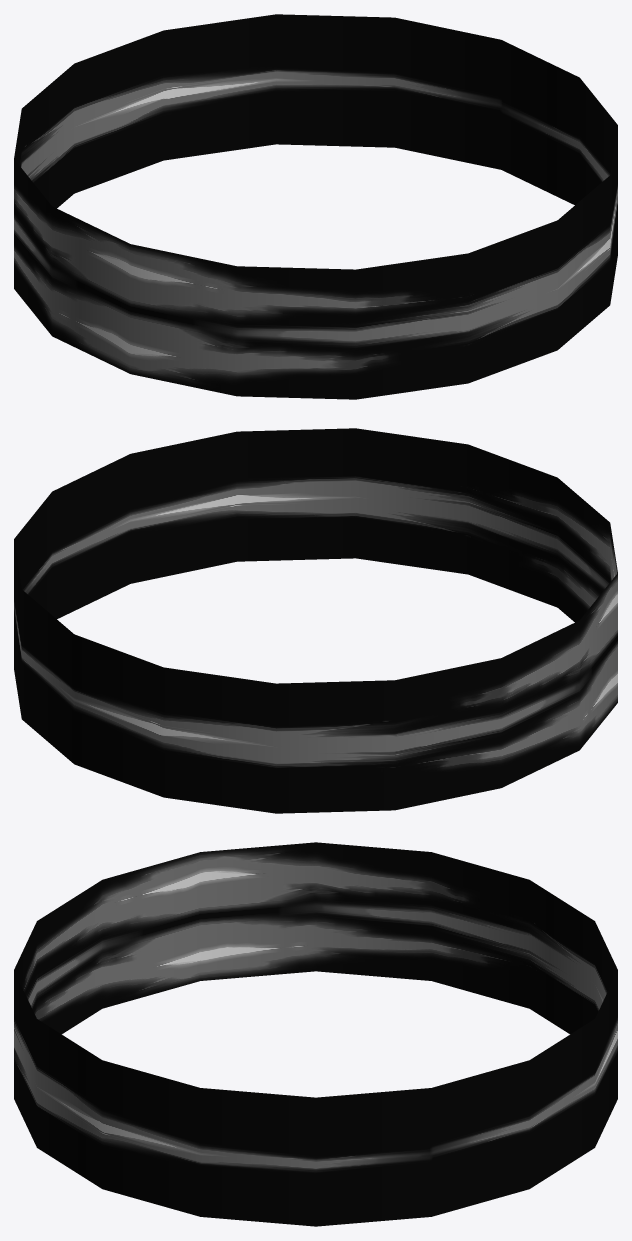
The model's file is Md_Close.fbx.
The picture shows the model from 3 angles, top to bottom: view 1: azimuth 30°, elevation 25°; view 2: azimuth 150°, elevation 25°; view 3: azimuth 270°, elevation 25°; orthographic projection.
Visible parts, largest first — view 1: Md_CLose; view 2: Md_CLose; view 3: Md_CLose.
Boxes of the visible parts, x1,y1,x2,y2 form: Md_CLose: (14,14,617,399); Md_CLose: (14,428,617,813); Md_CLose: (14,842,617,1226).
Bounding box in the file's own units: 17.44 × 4.11 × 17.44.
